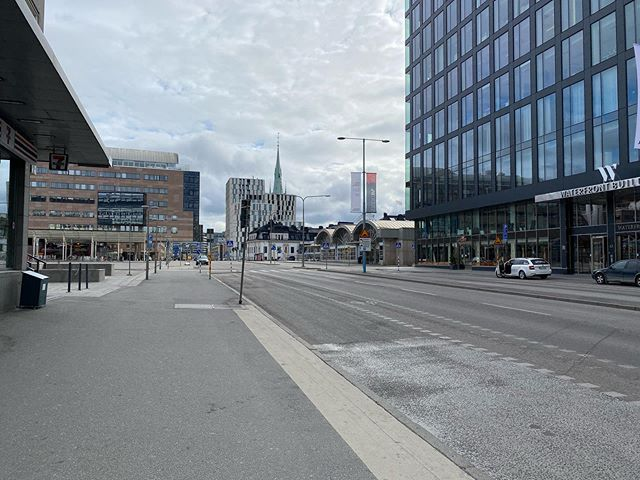building: (413, 1, 640, 257), (29, 151, 206, 252), (225, 174, 294, 253)
car: (492, 254, 551, 284)
sky: (80, 1, 402, 146)
street: (213, 261, 640, 480)
